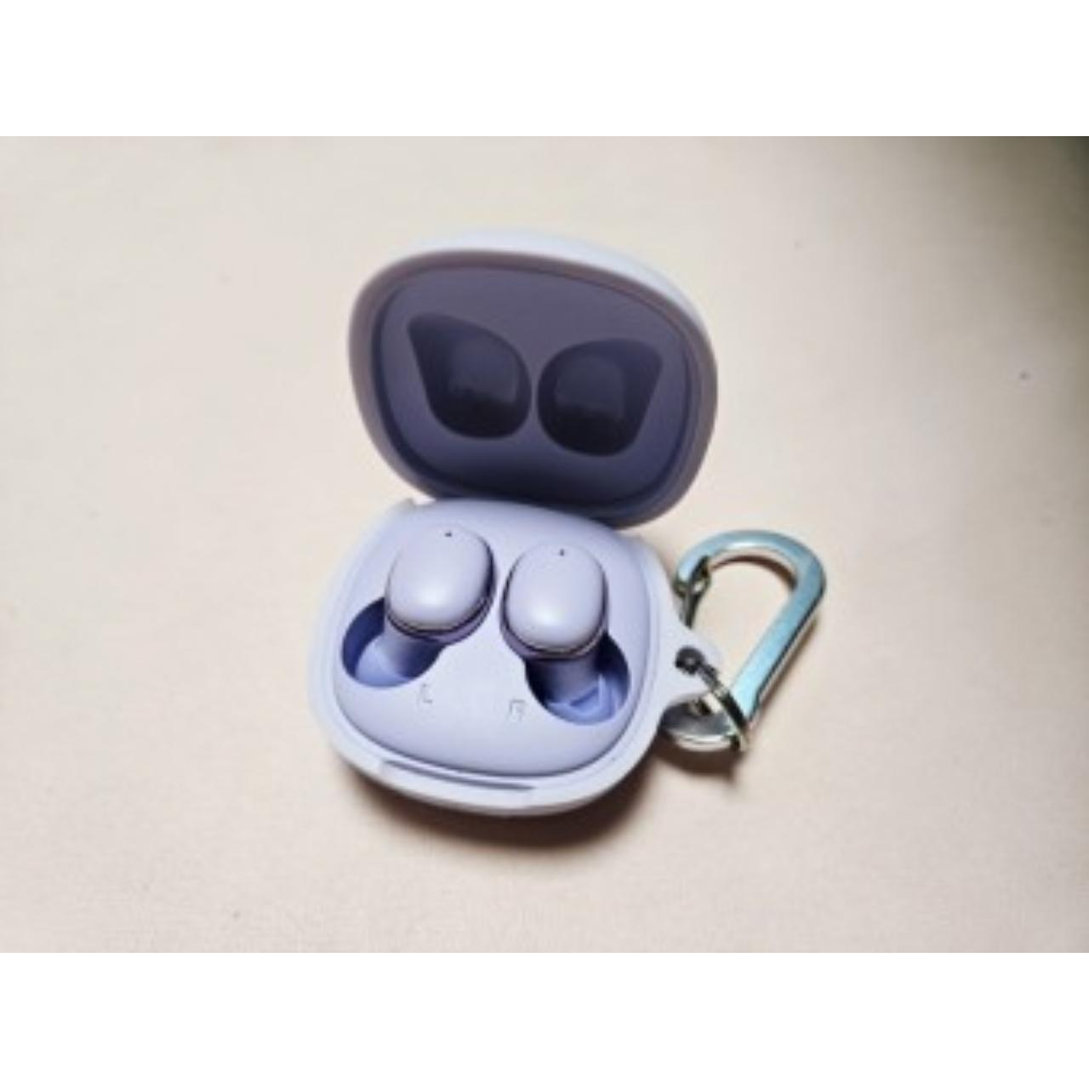Buds: (298, 233, 720, 836)
Buds_Units: (337, 510, 502, 717), (499, 538, 633, 728)
